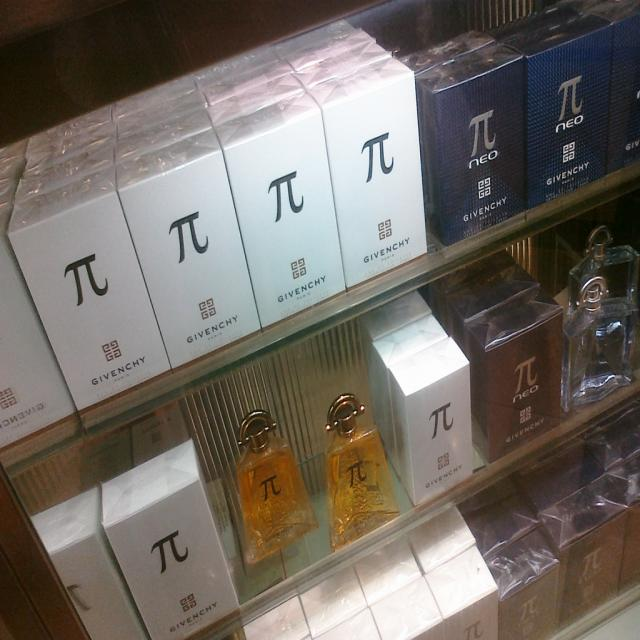Box: (1, 0, 640, 445), (236, 401, 640, 638), (432, 242, 562, 464), (105, 433, 242, 639), (389, 298, 484, 511), (32, 485, 146, 638)
